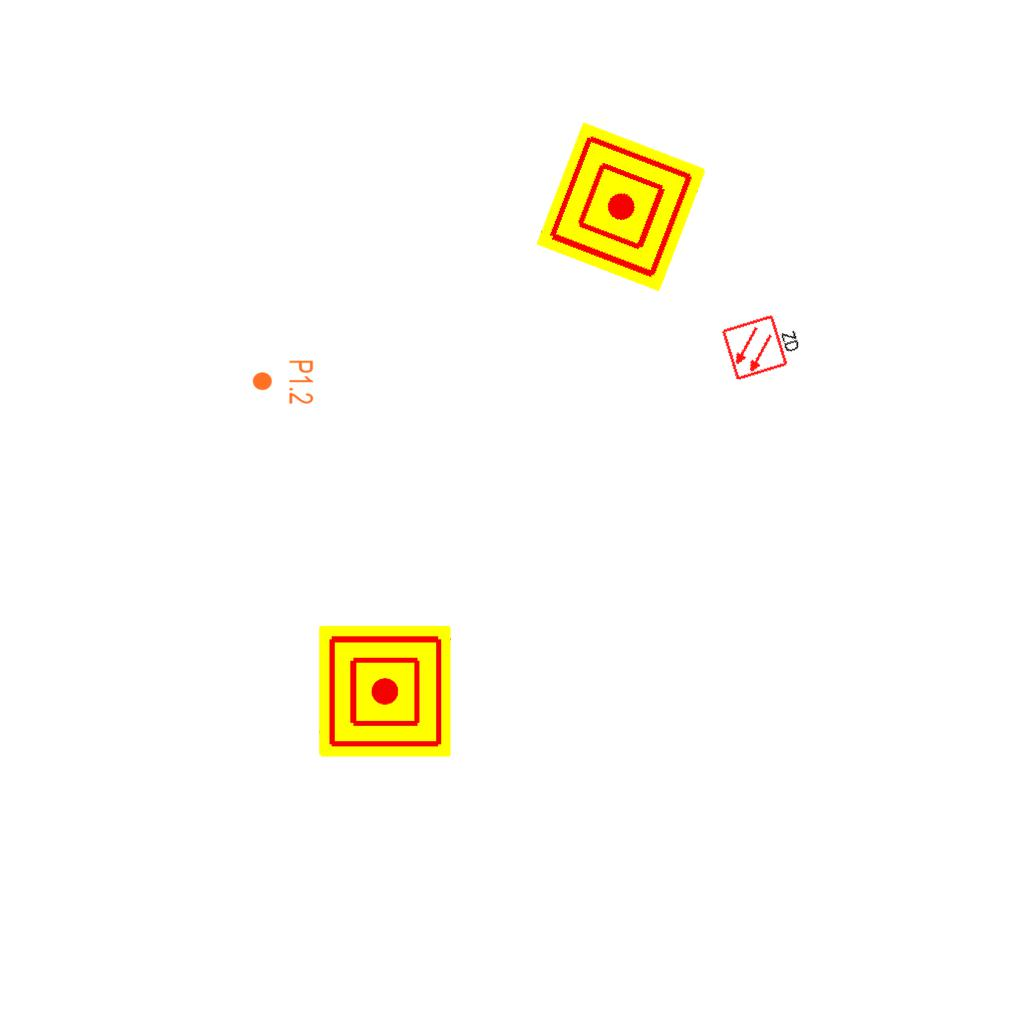Downlight_LED_Einbauleuchten_Flur: (251, 359, 315, 405)
NAM-Nichtautomatischer_Melder: (535, 121, 707, 293), (319, 625, 451, 757)
ZD_Melder_in_Zwischendecke_mit_Revisionsoeffnung_mind_40_x_40_cm: (719, 305, 808, 383)
